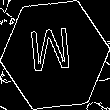M_S: (31, 28, 79, 82)
